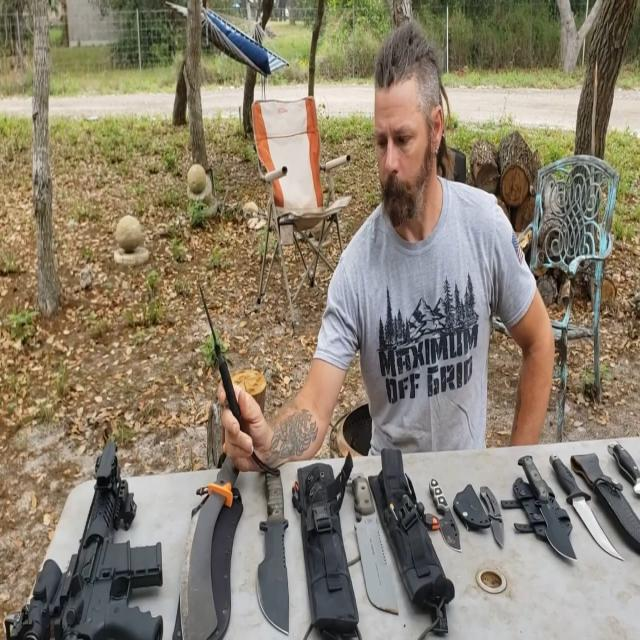knife: (165, 439, 251, 639), (231, 444, 315, 636), (343, 448, 408, 624), (186, 286, 255, 448), (542, 446, 622, 564), (519, 434, 571, 575), (421, 449, 476, 554), (469, 475, 518, 556)
long weapon: (0, 421, 186, 639)
